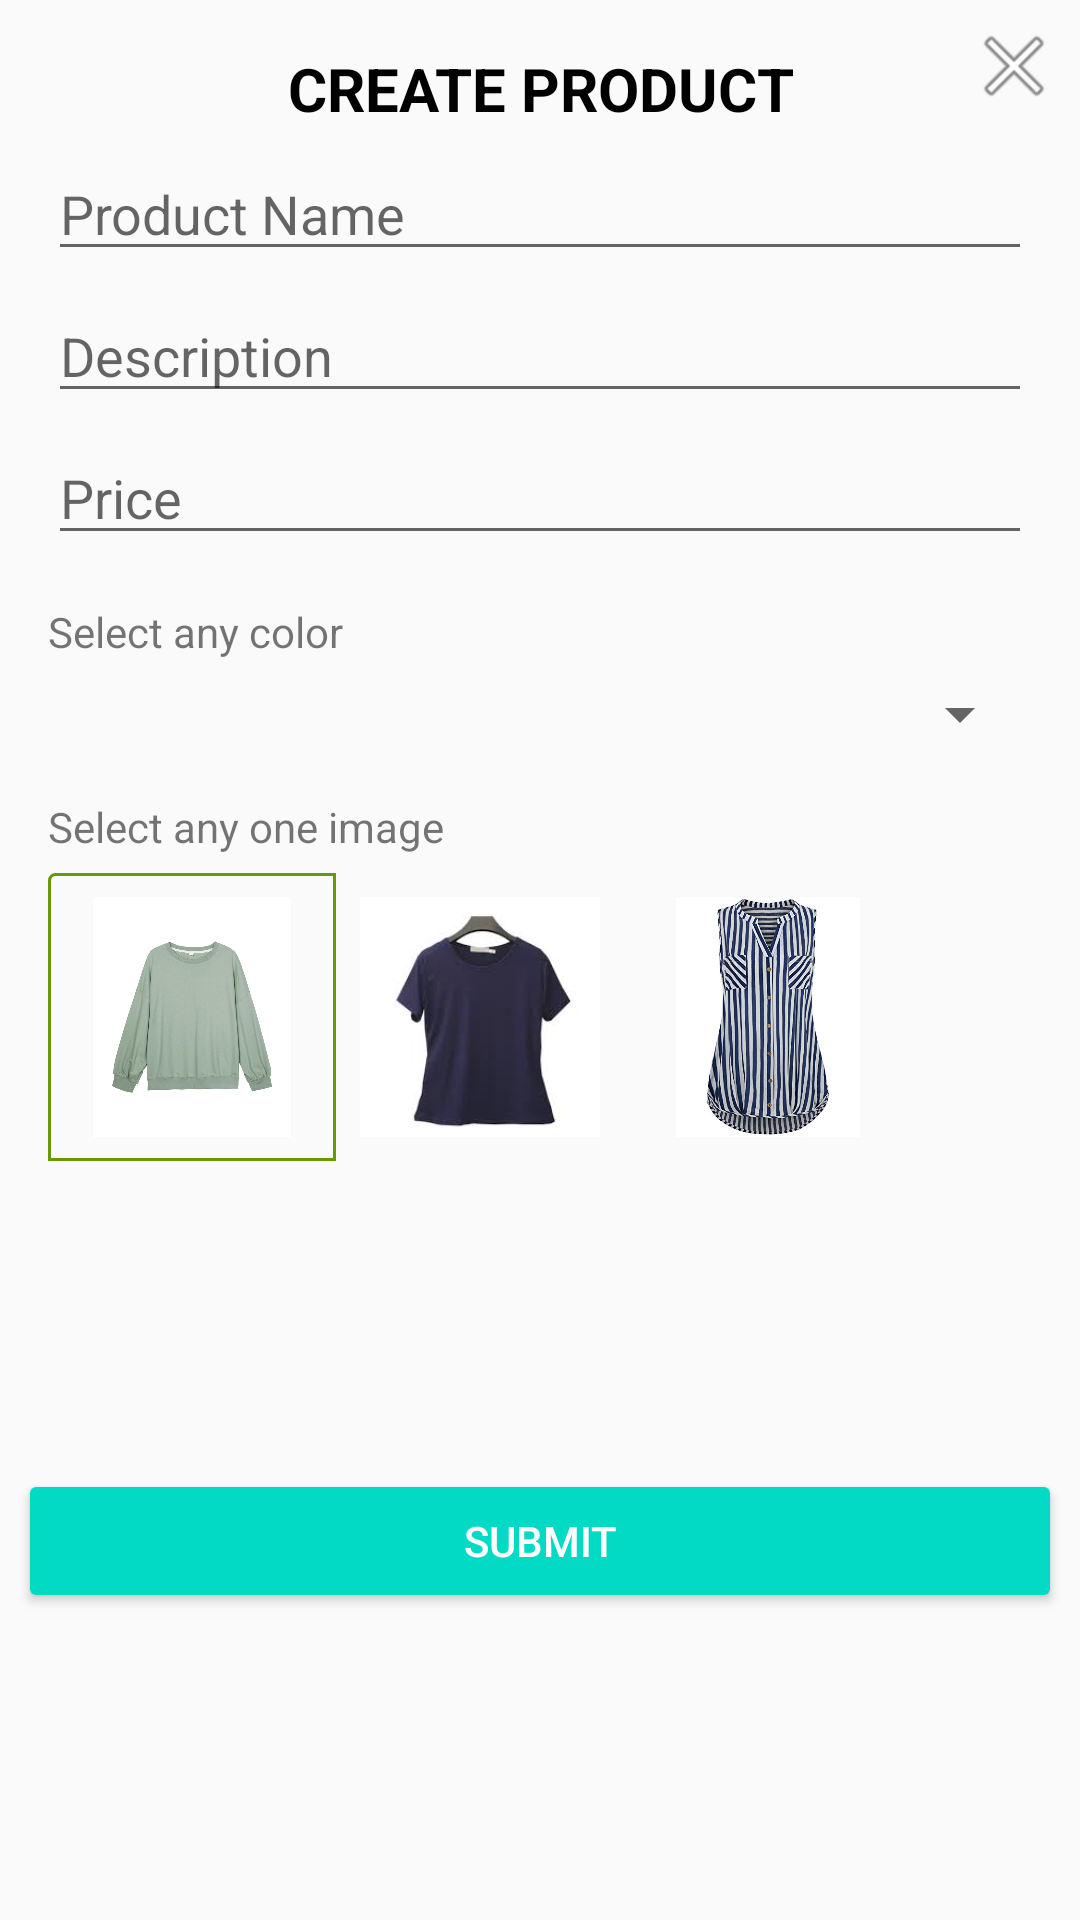

Where to tap for icons on this 1080*1920 app screen, as (x=x, y=y):
close clear cancel: (x=1014, y=66)
top one: (x=192, y=1017)
top three: (x=768, y=1017)
top two: (x=483, y=1021)
